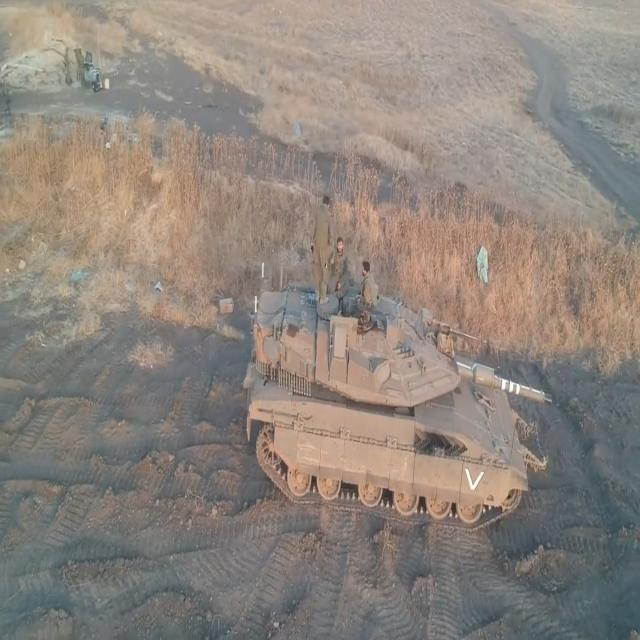tank: (237, 240, 555, 536)
